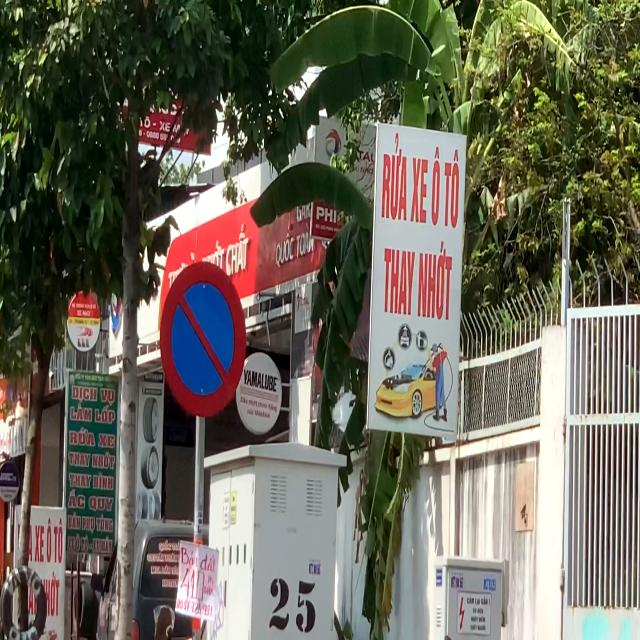P.131a: (152, 250, 253, 426)
